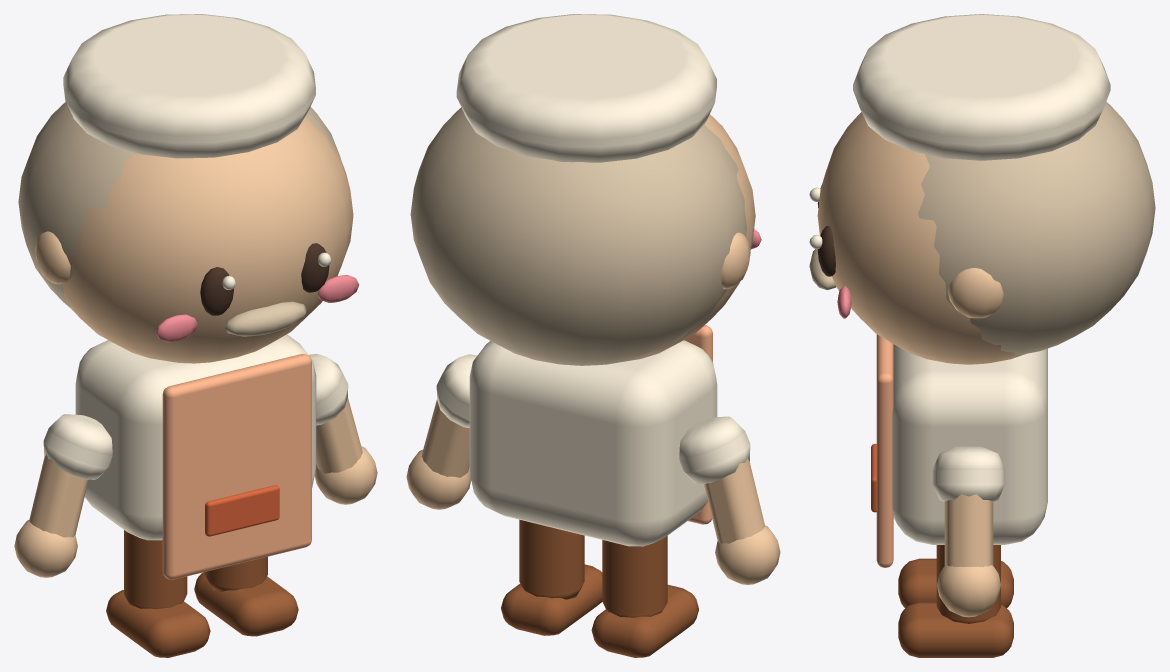
The model's file is pakcik_stall.glb.
The picture shows the model from 3 angles, left to right: view 1: azimuth 30°, elevation 25°; view 2: azimuth 150°, elevation 25°; view 3: azimuth 270°, elevation 25°; orthographic projection. The views are drawn at different scales.
Parts seen in each view (by area): view 1: Head.005, Kopiah, Apron.001, Torso.004, Hair.003, Shoe-1.004, Shoe1.005, Sleeve-1.004, Leg-1.003, Arm-1.004, ApronPocket, Hand-1.004 (+10 smaller); view 2: Hair.003, Torso.004, Kopiah, Leg-1.003, Leg1.003, Shoe-1.004, Sleeve-1.004, Shoe1.005, Arm-1.004, Hand-1.004, Arm1.004, Hand1.004 (+4 smaller); view 3: Hair.003, Kopiah, Head.005, Torso.004, Shoe1.005, Apron.001, Arm1.004, Sleeve1.004, Hand1.004, Shoe-1.004, Ear1.003, Leg1.003 (+2 smaller).
Part boxes in pixels (left/top/right/bottom): Head.005: left=62, top=117, right=353, bottom=363; Kopiah: left=63, top=14, right=315, bottom=158; Apron.001: left=162, top=354, right=311, bottom=579; Torso.004: left=75, top=334, right=316, bottom=540; Hair.003: left=18, top=102, right=340, bottom=308; Shoe-1.004: left=106, top=590, right=210, bottom=657; Shoe1.005: left=194, top=572, right=298, bottom=636; Sleeve-1.004: left=43, top=414, right=112, bottom=479; Leg-1.003: left=124, top=530, right=187, bottom=608; Arm-1.004: left=29, top=454, right=88, bottom=537; ApronPocket: left=205, top=485, right=279, bottom=536; Hand-1.004: left=14, top=520, right=77, bottom=577; Hair.003: left=410, top=107, right=746, bottom=365; Torso.004: left=469, top=340, right=717, bottom=546; Kopiah: left=456, top=14, right=716, bottom=162; Leg-1.003: left=602, top=536, right=667, bottom=617; Leg1.003: left=519, top=519, right=584, bottom=599; Shoe-1.004: left=591, top=584, right=698, bottom=657; Sleeve-1.004: left=679, top=416, right=750, bottom=484; Shoe1.005: left=501, top=564, right=602, bottom=635; Arm-1.004: left=704, top=458, right=764, bottom=543; Hand-1.004: left=715, top=525, right=780, bottom=584; Arm1.004: left=421, top=400, right=469, bottom=477; Hand1.004: left=406, top=449, right=471, bottom=509; Hair.003: left=918, top=102, right=1155, bottom=355; Kopiah: left=853, top=14, right=1110, bottom=160; Head.005: left=817, top=112, right=1026, bottom=364; Torso.004: left=892, top=344, right=1047, bottom=544; Shoe1.005: left=898, top=602, right=1013, bottom=657; Apron.001: left=876, top=334, right=893, bottom=567; Arm1.004: left=944, top=494, right=993, bottom=566; Sleeve1.004: left=932, top=446, right=1005, bottom=501; Hand1.004: left=937, top=565, right=1000, bottom=617; Shoe-1.004: left=898, top=558, right=1013, bottom=608; Ear1.003: left=947, top=268, right=1003, bottom=318; Leg1.003: left=936, top=545, right=1000, bottom=623.
Bounding box in the file's own units: 0.9665 × 1.47 × 0.807.
